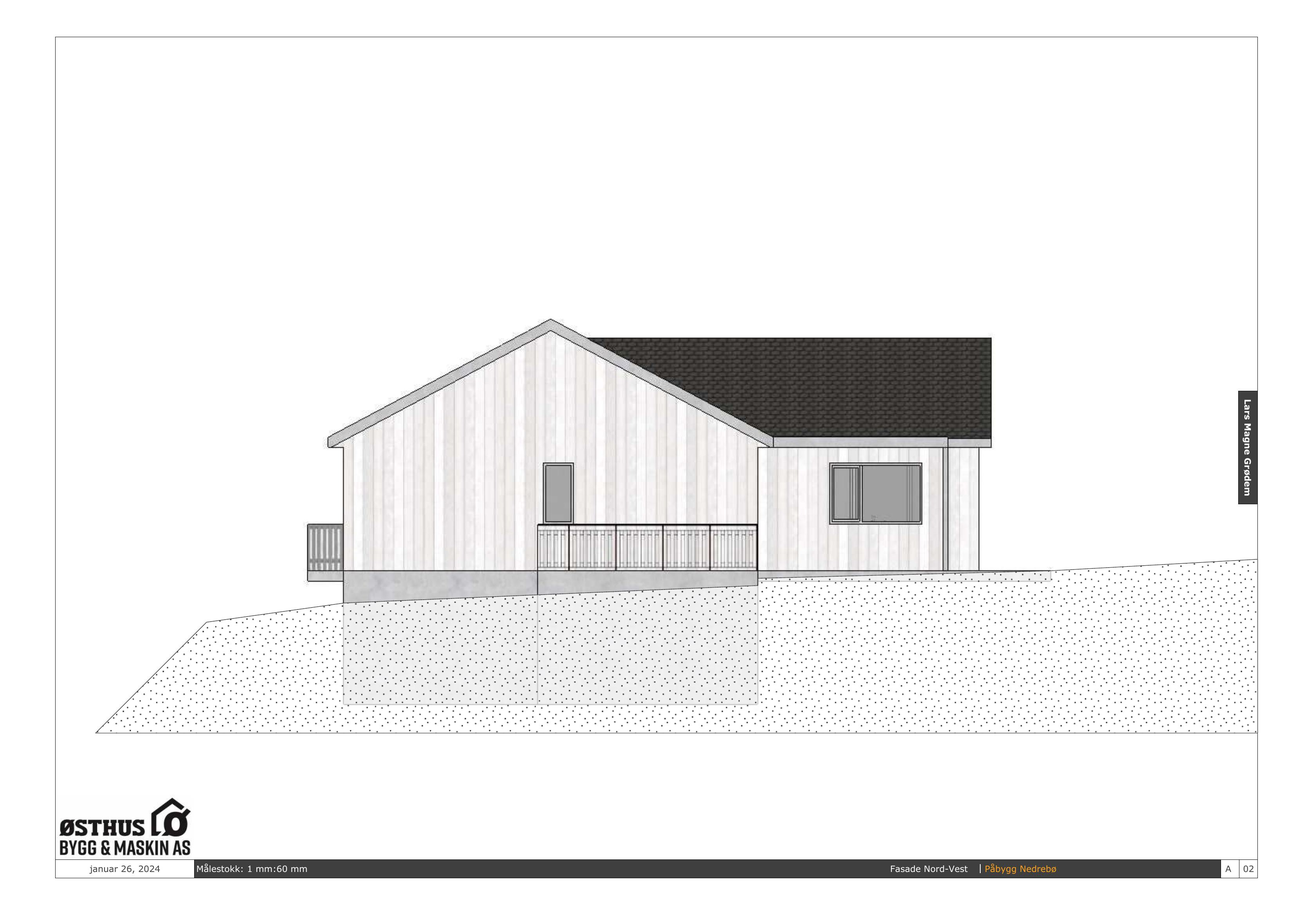fasade: (306, 318, 992, 705)
